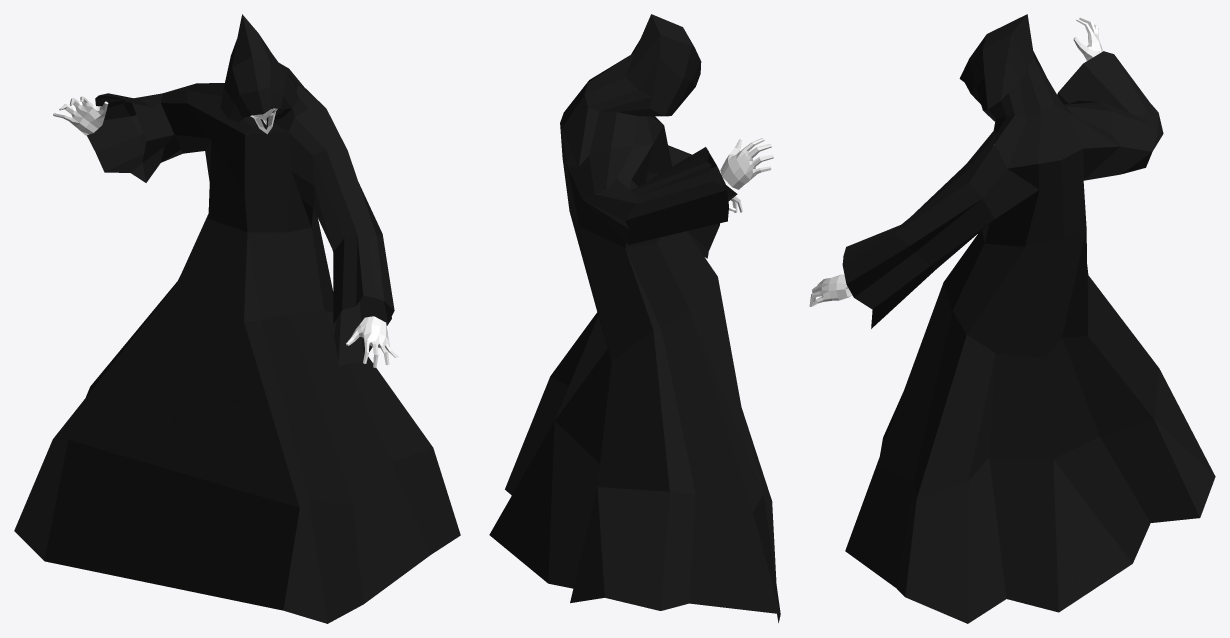
The model's file is ReaperDead(2).obj.
3 views of the same model, side by side, from view 1: azimuth 30°, elevation 25°; view 2: azimuth 150°, elevation 25°; view 3: azimuth 270°, elevation 25° (orthographic). The views are drawn at different scales.
Visible parts, largest first — view 1: Plane003; view 2: Plane003; view 3: Plane003.
Boxes of the visible parts, box(x1,y1,x2,y2) form: Plane003: box(14, 14, 460, 623); Plane003: box(489, 14, 780, 622); Plane003: box(809, 14, 1215, 623).
Bounding box in the file's own units: 144 × 214 × 146.
